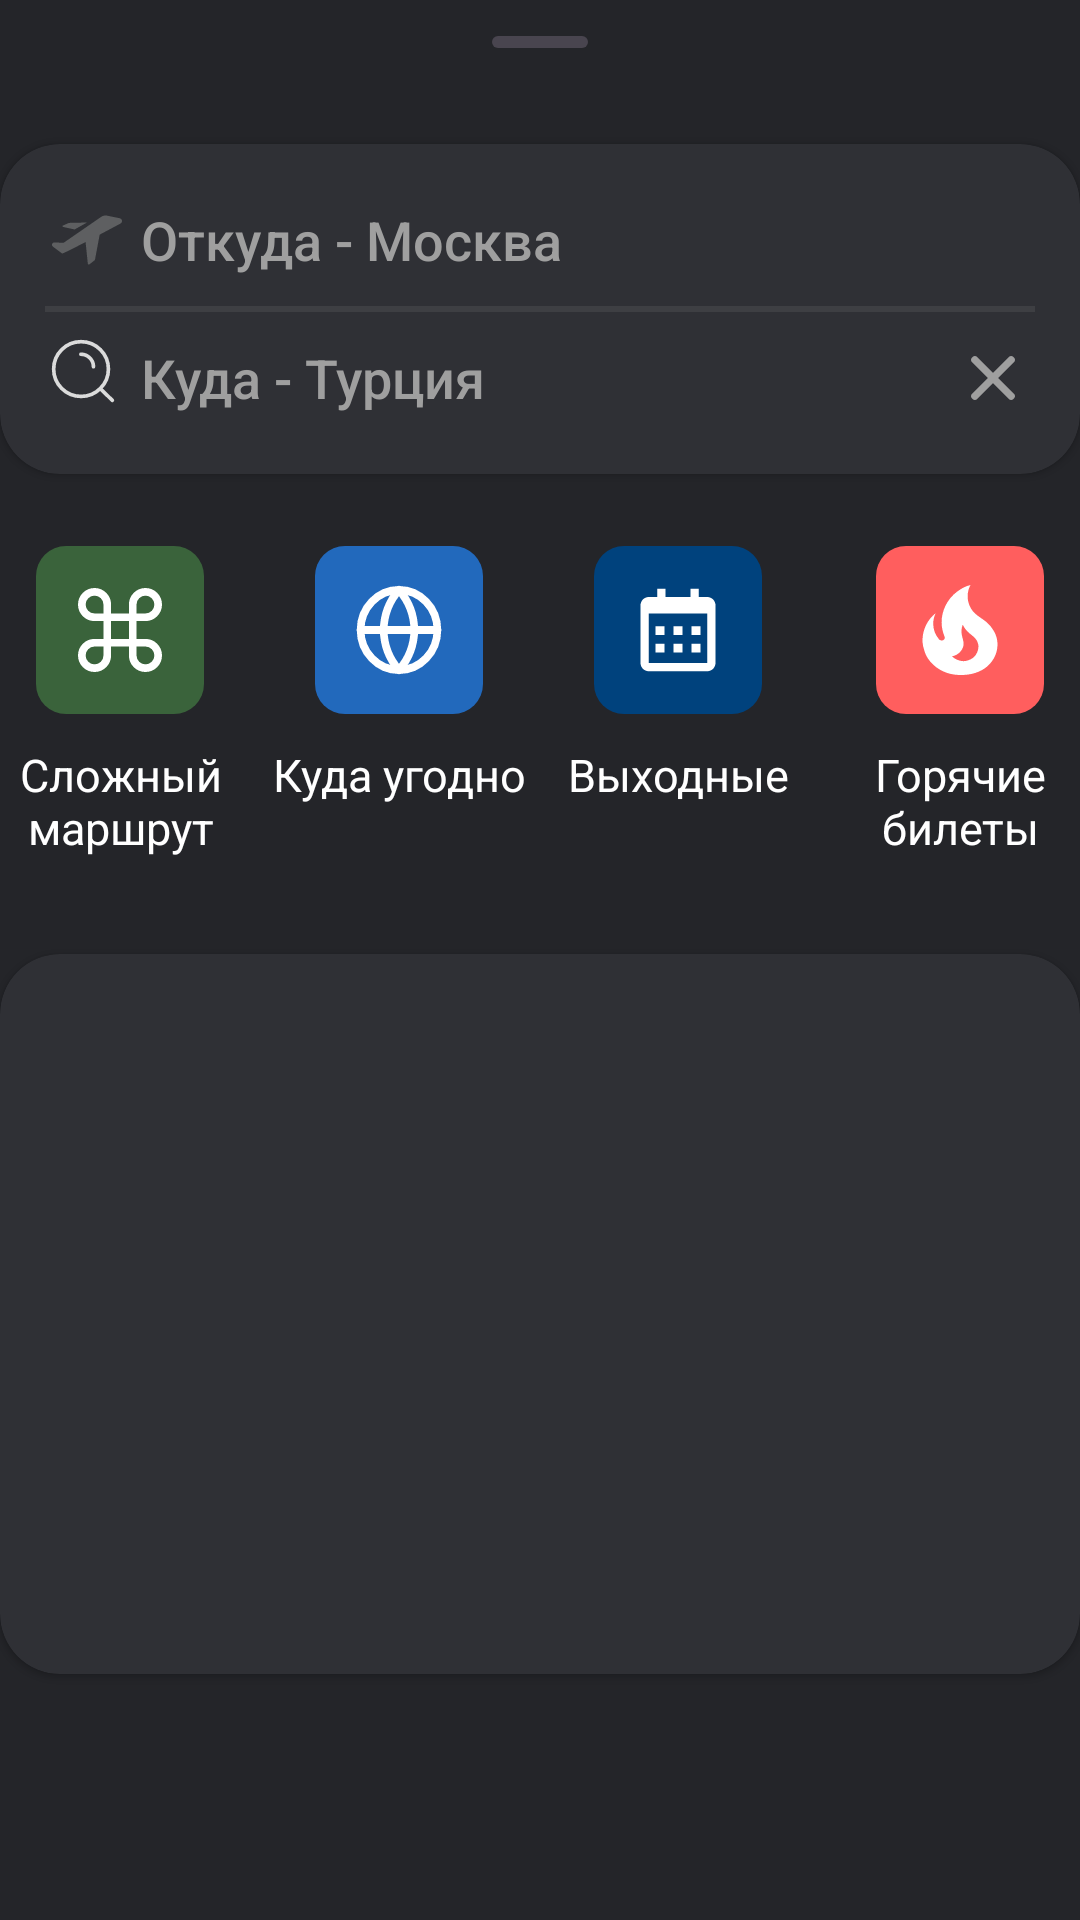

Screen size 1080 x 1920. Icon name, then its box in pixels as (x1,y1,x2,y2):
airplane: (52,216,122,264)
clear: (971,356,1015,400)
search: (52,340,114,403)
